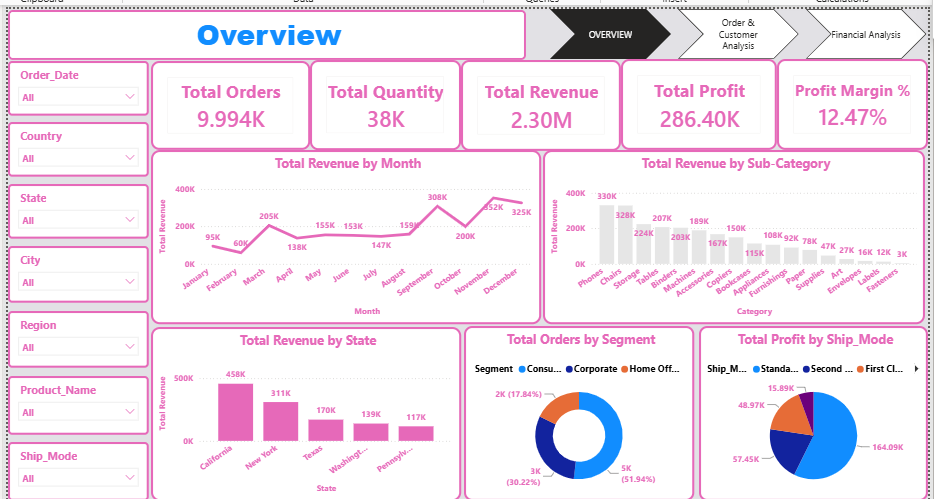

What the dashboard file says about the page in this screenshot:
{"tool":"powerbi","page":{"name":"OVERVIEW","canvas":[1346,720],"ordinal":0},"visuals":[{"type":"pageNavigator","box":[793.2,0,553.2,73.2],"z":0},{"type":"shape","title":"Overview","box":[0,1.5,758,73.2],"z":1000},{"type":"slicer","fields":{"Values":["Sheet1.Order_Date"]},"box":[0,76.1,206.3,80.5],"z":2000},{"type":"slicer","fields":{"Values":["Sheet1.Country"]},"box":[0,165.4,206.3,80.5],"z":3000},{"type":"slicer","fields":{"Values":["Sheet1.City"]},"box":[0,346.8,206.3,83.4],"z":4000},{"type":"slicer","fields":{"Values":["Sheet1.Region"]},"box":[0,442,206.3,83.4],"z":5000},{"type":"slicer","fields":{"Values":["Sheet1.Product_Name"]},"box":[0,537.1,206.3,86.3],"z":6000},{"type":"slicer","fields":{"Values":["Sheet1.State"]},"box":[0,256.1,206.3,80.5],"z":7000},{"type":"slicer","fields":{"Values":["Sheet1.Ship_Mode"]},"box":[0,633.7,206.3,86.3],"z":8000},{"type":"cardVisual","fields":{"Data":["Sheet1.Total Orders"]},"box":[209.3,76.1,232.7,130.2],"z":9000},{"type":"cardVisual","fields":{"Data":["Sheet1.Total Quantity"]},"box":[442,74.6,221,131.7],"z":10000},{"type":"cardVisual","fields":{"Data":["Sheet1.Total Revenue"]},"box":[662.9,74.6,234.1,133.2],"z":11000},{"type":"cardVisual","fields":{"Data":["Sheet1.Total Profit"]},"box":[897.1,73.2,228.3,133.2],"z":12000},{"type":"cardVisual","fields":{"Data":["Sheet1.Profit Margin %"]},"box":[1125.4,73.2,221,133.2],"z":13000},{"type":"lineChart","fields":{"Category":["Sheet1.Order_Date.Variation.Date Hierarchy.Month"],"Y":["Sheet1.Total Revenue"]},"box":[209.3,206.3,570.7,254.6],"z":14000},{"type":"columnChart","fields":{"Category":["Sheet1.Sub-Category"],"Y":["Sheet1.Total Revenue"]},"box":[782.9,206.3,559,254.6],"z":15000},{"type":"columnChart","fields":{"Category":["Sheet1.State"],"Y":["Sheet1.Total Revenue"]},"box":[209.3,465.4,453.7,254.6],"z":16000},{"type":"donutChart","fields":{"Category":["Sheet1.Segment"],"Y":["Sheet1.Total Orders"]},"box":[667.3,463.9,336.6,256.1],"z":17000},{"type":"pieChart","fields":{"Category":["Sheet1.Ship_Mode"],"Y":["Sheet1.Total Profit"]},"box":[1011.2,463.9,335.1,256.1],"z":18000}]}

Visuals, with their boxes in screenshot pixels (x1, y1, x2, y2), scaled from the page's 1346x720 canvas onto the 934x499 screenshot:
pageNavigator: (550,0,933,51)
"Overview" shape: (0,1,526,52)
slicer - Sheet1.Order_Date: (0,53,143,109)
slicer - Sheet1.Country: (0,115,143,170)
slicer - Sheet1.City: (0,240,143,298)
slicer - Sheet1.Region: (0,306,143,364)
slicer - Sheet1.Product_Name: (0,372,143,432)
slicer - Sheet1.State: (0,177,143,233)
slicer - Sheet1.Ship_Mode: (0,439,143,498)
cardVisual - Sheet1.Total Orders: (145,53,307,143)
cardVisual - Sheet1.Total Quantity: (307,52,460,143)
cardVisual - Sheet1.Total Revenue: (460,52,622,144)
cardVisual - Sheet1.Total Profit: (623,51,781,143)
cardVisual - Sheet1.Profit Margin %: (781,51,933,143)
lineChart - Sheet1.Order_Date.Variation.Date Hierarchy.Month x Sheet1.Total Revenue: (145,143,541,319)
columnChart - Sheet1.Sub-Category x Sheet1.Total Revenue: (543,143,931,319)
columnChart - Sheet1.State x Sheet1.Total Revenue: (145,323,460,498)
donutChart - Sheet1.Segment x Sheet1.Total Orders: (463,322,697,498)
pieChart - Sheet1.Ship_Mode x Sheet1.Total Profit: (702,322,933,498)
